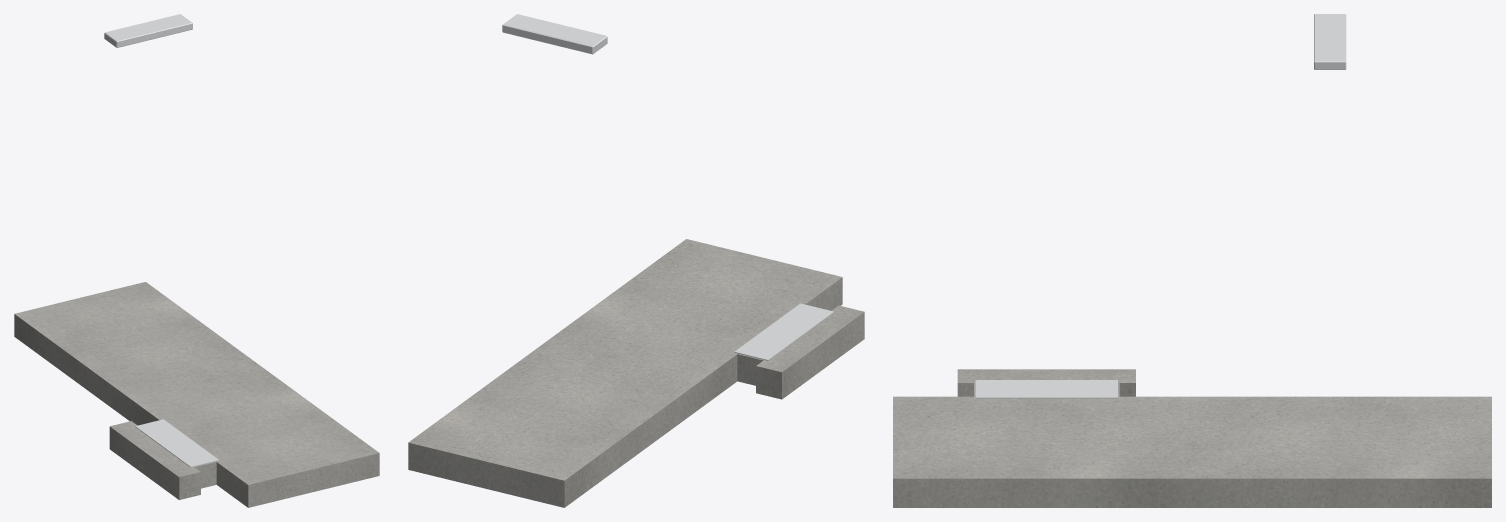
Rendered from stair_top.glb.
3 renders of one model, left to right at view 1: azimuth 30°, elevation 25°; view 2: azimuth 150°, elevation 25°; view 3: azimuth 270°, elevation 25°, orthographic. The views are drawn at different scales.
Visible parts, largest first — view 1: stair_top_conc_s, stair_top_alu; view 2: stair_top_conc_s, stair_top_alu; view 3: stair_top_conc_s, stair_top_alu.
Boxes of the visible parts, x1,y1,x2,y2 form: stair_top_conc_s: (14, 282, 379, 507); stair_top_alu: (104, 14, 219, 467); stair_top_conc_s: (408, 239, 864, 507); stair_top_alu: (502, 14, 834, 360); stair_top_conc_s: (893, 369, 1491, 507); stair_top_alu: (975, 14, 1346, 398).
Size of the model in its own units: 1.6 by 2.95 by 3.7.
2 materials, 1 textured.
